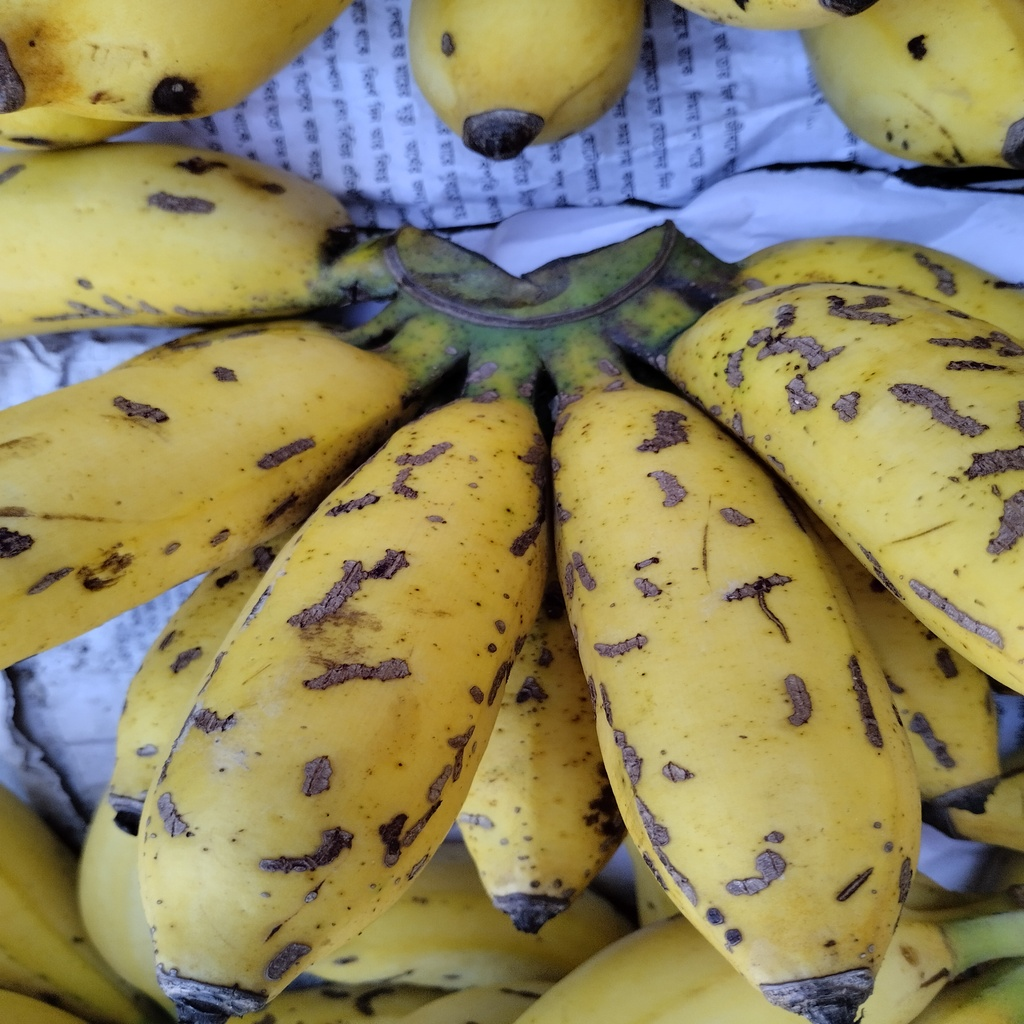unhealthy: (138, 394, 549, 1000), (542, 374, 921, 1000)
